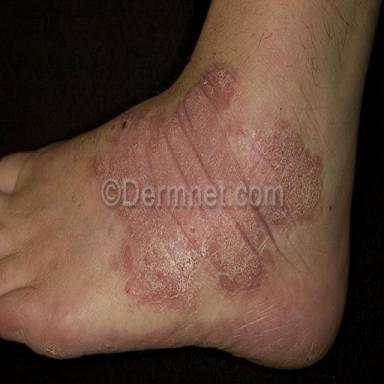Psoriasis: (86, 61, 324, 205), (109, 206, 315, 316)
